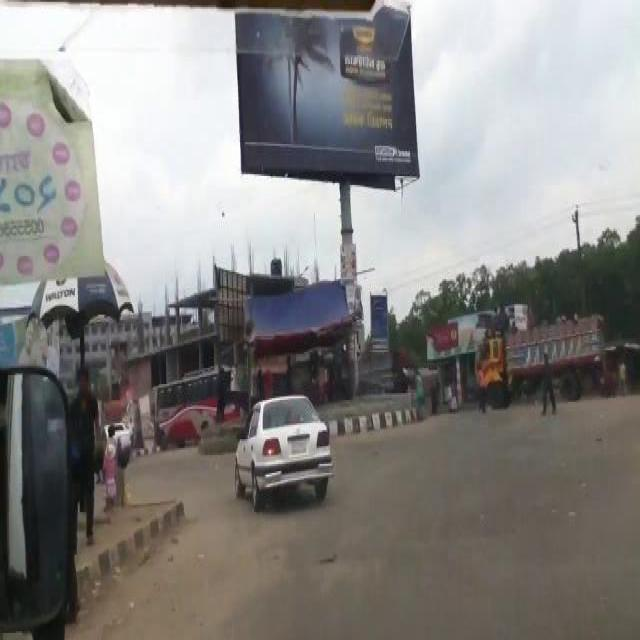18: (474, 308, 608, 410)
5: (230, 391, 332, 516)
Truck: (150, 359, 244, 459)
